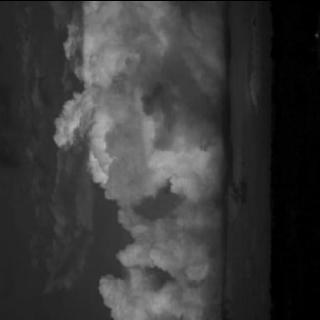Cumulus: (1, 0, 262, 320)
